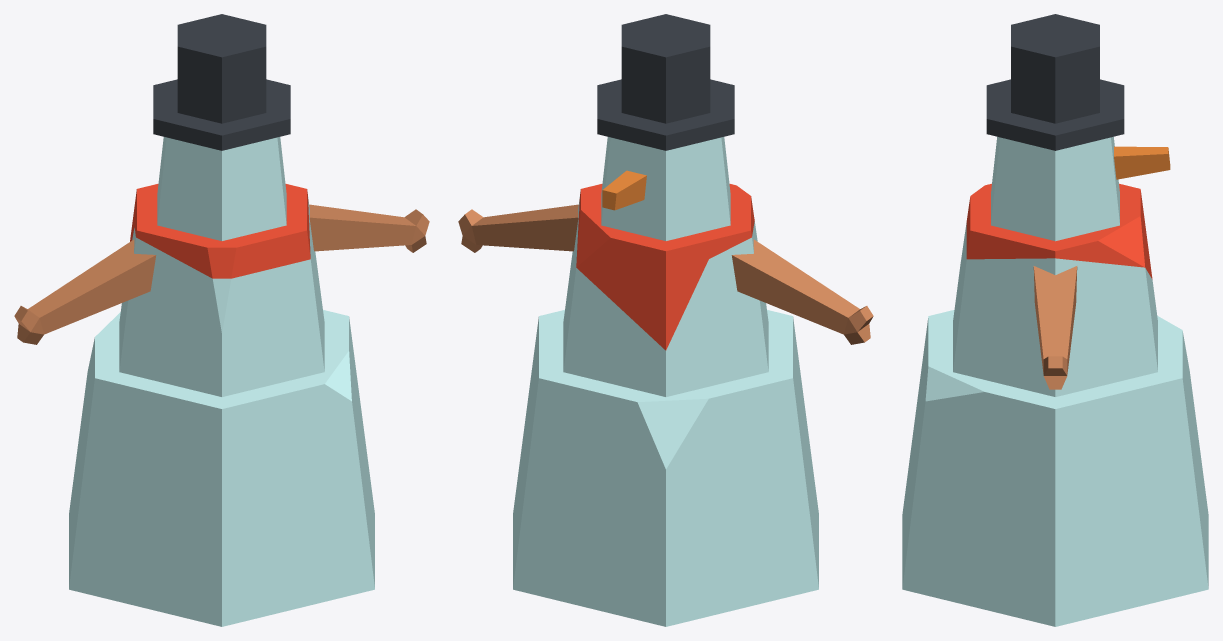
Rendered from snowmanFancy.dae.
3 renders of one model, left to right at view 1: azimuth 30°, elevation 25°; view 2: azimuth 150°, elevation 25°; view 3: azimuth 270°, elevation 25°, orthographic.
Visible parts, largest first — view 1: snowmanFancy; view 2: snowmanFancy; view 3: snowmanFancy.
Boxes of the visible parts, x1,y1,x2,y2 form: snowmanFancy: [14, 14, 429, 626]; snowmanFancy: [458, 14, 873, 626]; snowmanFancy: [902, 14, 1208, 626].
Size of the model in its own units: 0.6935 by 0.8381 by 0.4503.
